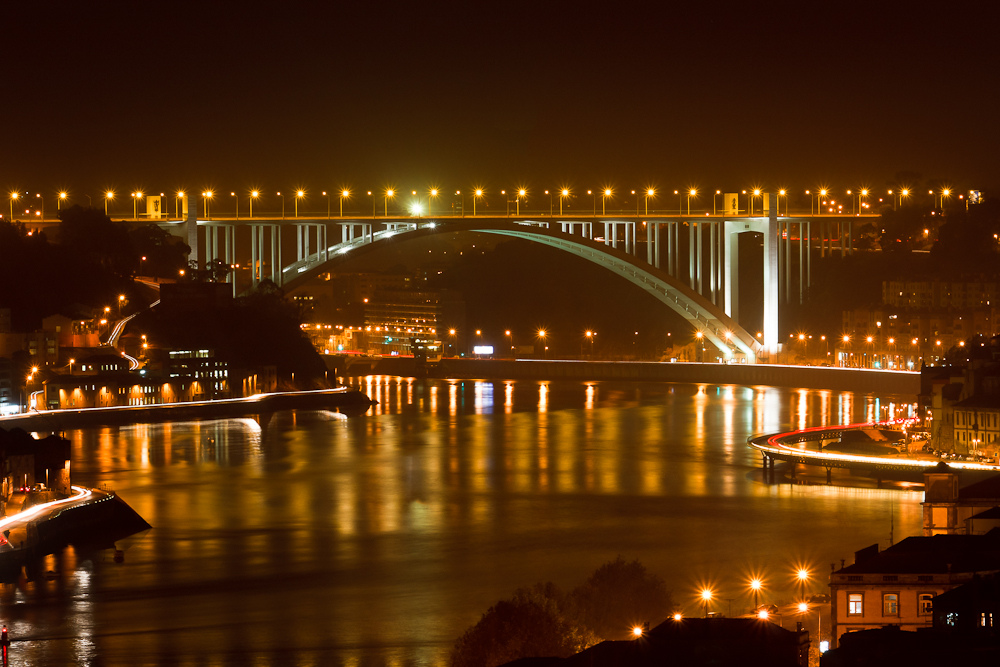arrabida: (108, 192, 882, 368)
